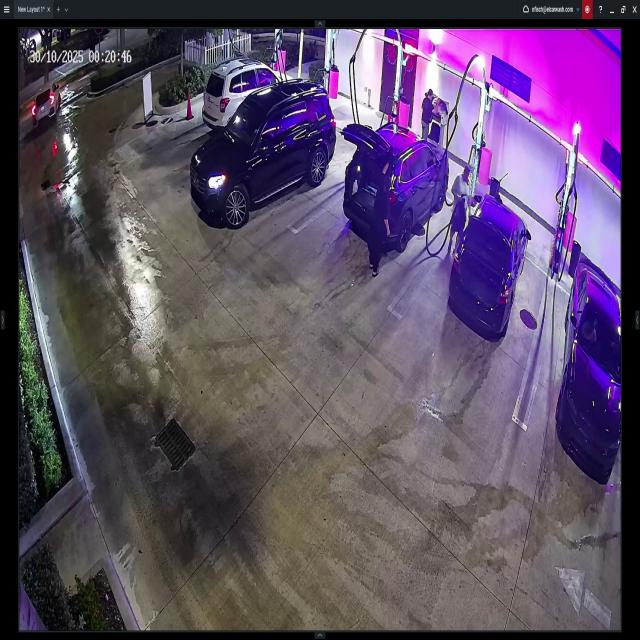Car: (190, 84, 334, 228), (558, 256, 622, 476), (344, 124, 448, 248), (451, 193, 529, 340), (202, 56, 296, 130), (30, 83, 62, 129)
